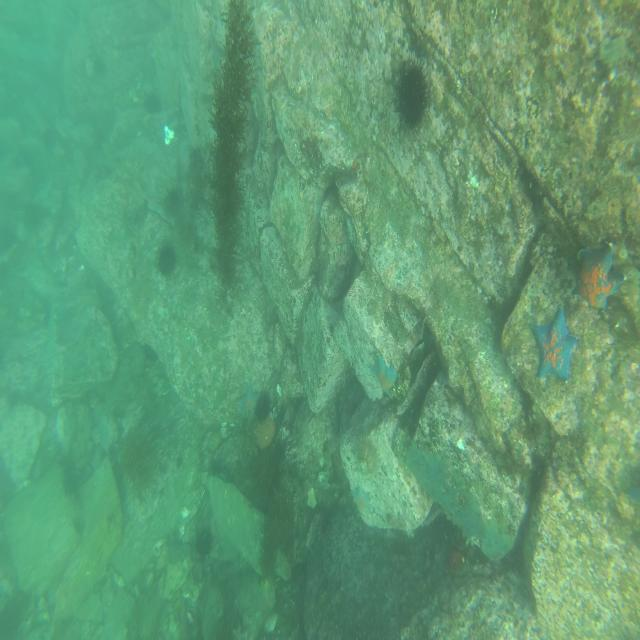echinus: (390, 57, 430, 135), (353, 432, 380, 478), (155, 242, 177, 278), (194, 527, 212, 557), (256, 387, 270, 422)
starfish: (529, 306, 580, 391), (572, 238, 624, 319), (369, 352, 397, 396), (237, 385, 259, 422)
